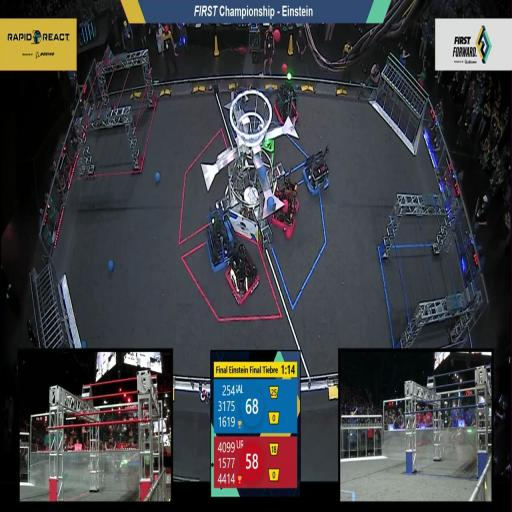robot: (204, 200, 238, 274), (226, 244, 260, 306), (270, 171, 300, 237), (300, 148, 331, 194), (275, 81, 299, 126)
